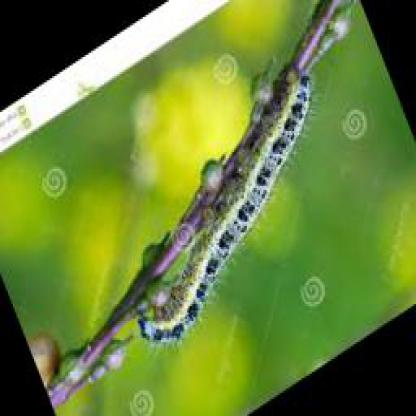pieris: (140, 72, 313, 341)
